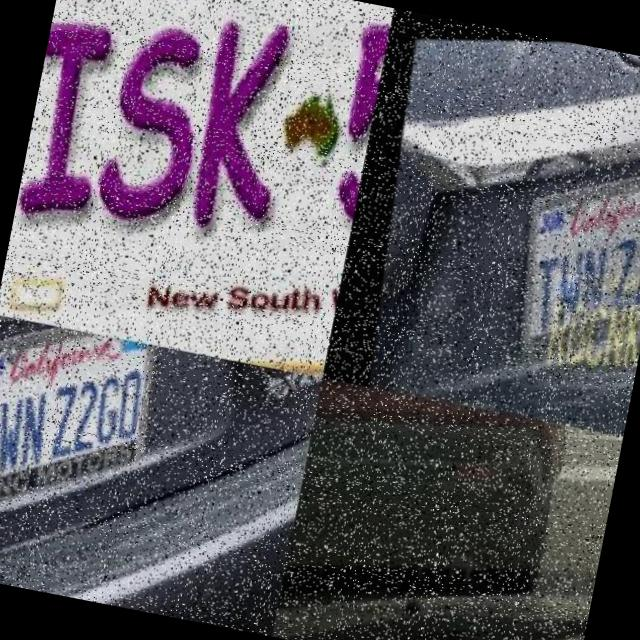LicensePlate: (11, 0, 394, 296), (0, 314, 181, 533)
